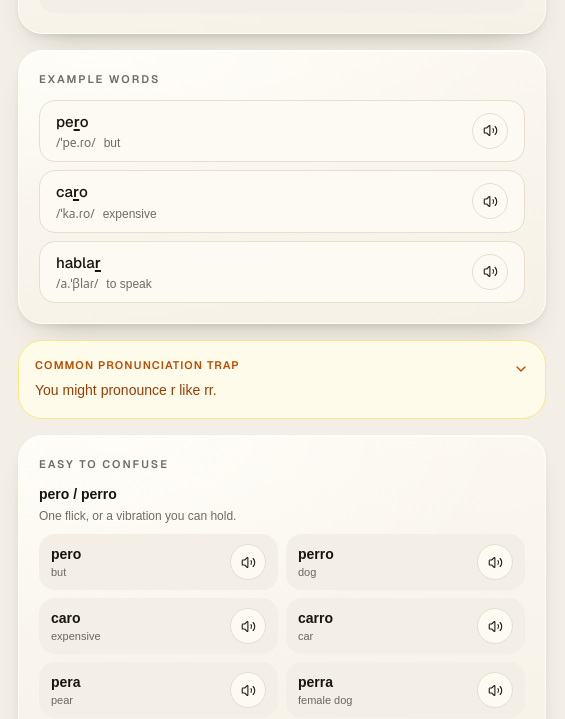
it: Sound detail › shows the contrast this sound is confused with
The image size is (565, 719).
(page scrolled)
What coordinates should you click on to do the following:
click the button "Common pronunciation trap You might pronounce r like rr."
I would click on:
 (137, 365)
Its box is [35,357,529,402].
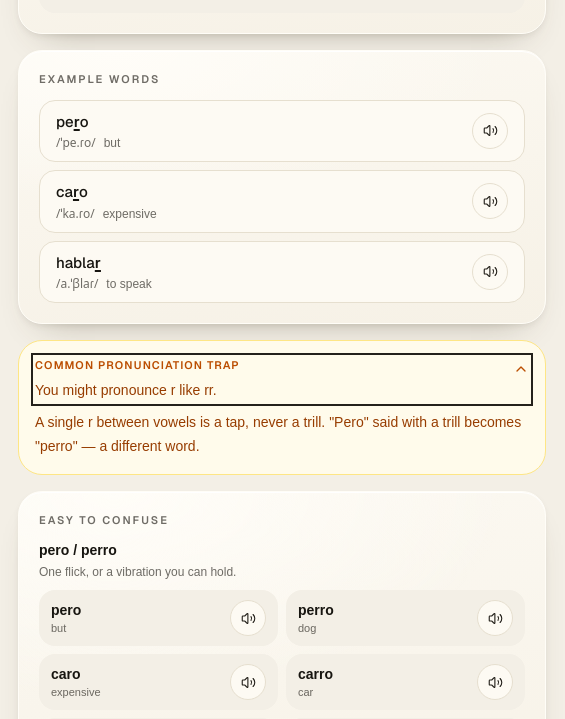
Check: the text "A single r between vowels is a tap" is shown, box [35,414,521,454]
